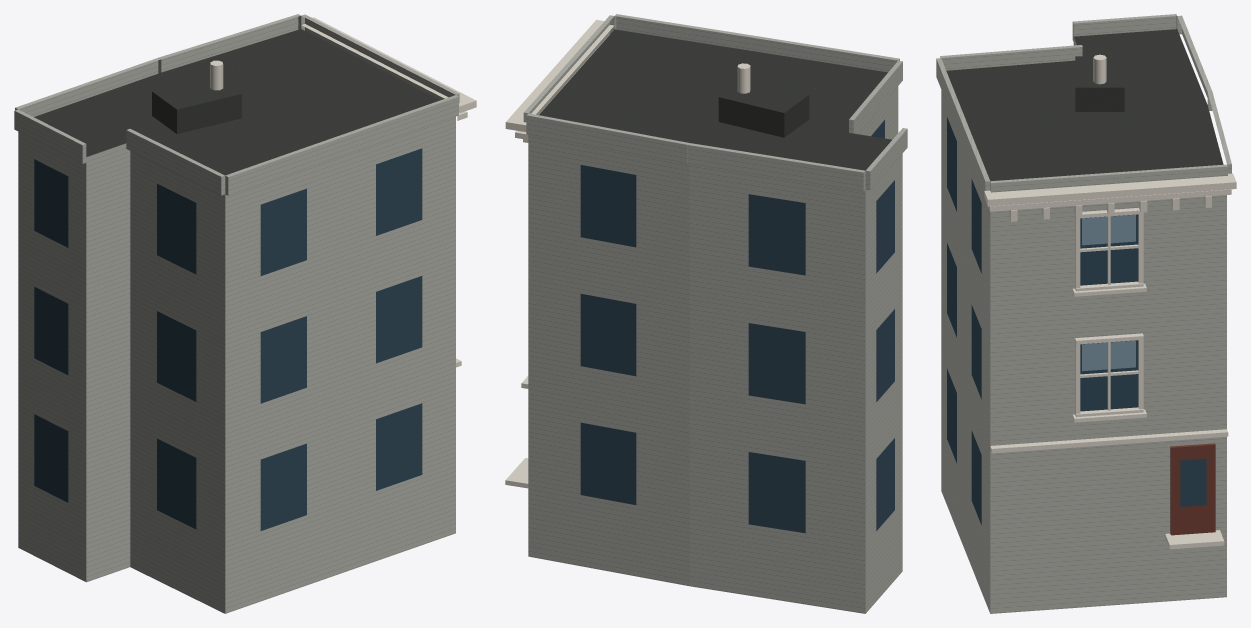
3 views of the same model, side by side, from view 1: azimuth 30°, elevation 25°; view 2: azimuth 150°, elevation 25°; view 3: azimuth 270°, elevation 25° (orthographic). The views are drawn at different scales.
Parts seen in each view (by area): view 1: Footprint 0 / surface 2, Inset glazing, Footprint 0 / surface 1, Facade bay volumes, Inferred rooftop service enclosure / surface 5, Inferred rooftop service enclosure / surface 3, Cornices and window frames, Inferred rooftop service enclosure / surface 2; view 2: Footprint 0 / surface 2, Inset glazing, Footprint 0 / surface 1, Facade bay volumes, Cornices and window frames, Inferred rooftop service enclosure / surface 6, Inferred rooftop service enclosure / surface 3, Inferred rooftop service enclosure / surface 2; view 3: Footprint 0 / surface 2, Footprint 0 / surface 1, Cornices and window frames, Inset glazing, Facade bay volumes, Storefronts and doors, Sky reflection panels, Inferred rooftop service enclosure / surface 3, Inferred rooftop service enclosure / surface 1.
Boxes of the visible parts, left/top/right/bottom form: Footprint 0 / surface 2: left=18, top=116, right=455, bottom=613; Inset glazing: left=34, top=148, right=422, bottom=530; Footprint 0 / surface 1: left=34, top=29, right=439, bottom=175; Facade bay volumes: left=14, top=14, right=459, bottom=195; Inferred rooftop service enclosure / surface 5: left=177, top=94, right=241, bottom=133; Inferred rooftop service enclosure / surface 3: left=152, top=77, right=241, bottom=109; Cornices and window frames: left=298, top=17, right=476, bottom=367; Inferred rooftop service enclosure / surface 2: left=152, top=91, right=176, bottom=133; Footprint 0 / surface 2: left=528, top=86, right=902, bottom=613; Inset glazing: left=580, top=120, right=894, bottom=533; Footprint 0 / surface 1: left=539, top=29, right=891, bottom=170; Facade bay volumes: left=523, top=14, right=907, bottom=191; Cornices and window frames: left=505, top=20, right=614, bottom=488; Inferred rooftop service enclosure / surface 6: left=718, top=97, right=784, bottom=137; Inferred rooftop service enclosure / surface 3: left=719, top=80, right=808, bottom=112; Inferred rooftop service enclosure / surface 2: left=784, top=95, right=809, bottom=137; Footprint 0 / surface 2: left=941, top=37, right=1226, bottom=613; Footprint 0 / surface 1: left=946, top=29, right=1223, bottom=181; Cornices and window frames: left=984, top=173, right=1236, bottom=549; Inset glazing: left=947, top=117, right=1206, bottom=524; Facade bay volumes: left=936, top=14, right=1231, bottom=196; Storefronts and doors: left=1170, top=443, right=1215, bottom=535; Sky reflection panels: left=1082, top=214, right=1135, bottom=371; Inferred rooftop service enclosure / surface 3: left=1075, top=56, right=1124, bottom=87; Inferred rooftop service enclosure / surface 1: left=1075, top=87, right=1124, bottom=111.
Bounding box in the file's own units: 10.17 × 12.57 × 7.31.
